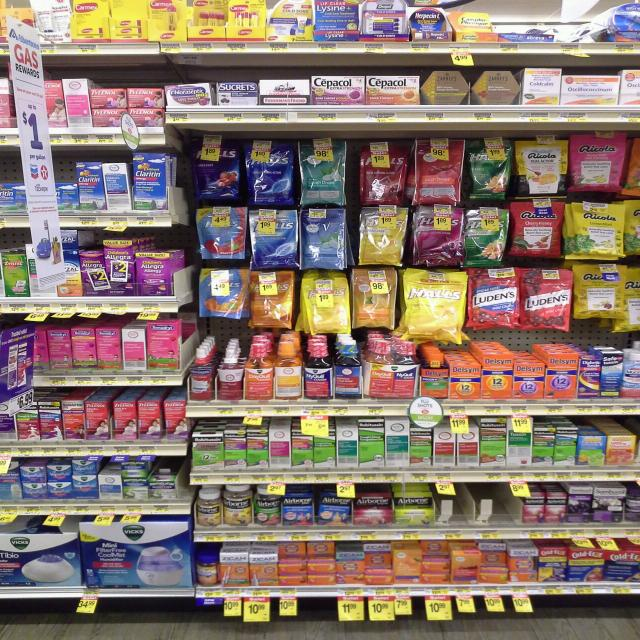unorganised: (164, 81, 218, 107), (280, 541, 335, 561), (191, 1, 227, 26), (480, 543, 507, 568), (418, 541, 450, 558), (365, 552, 390, 571)
